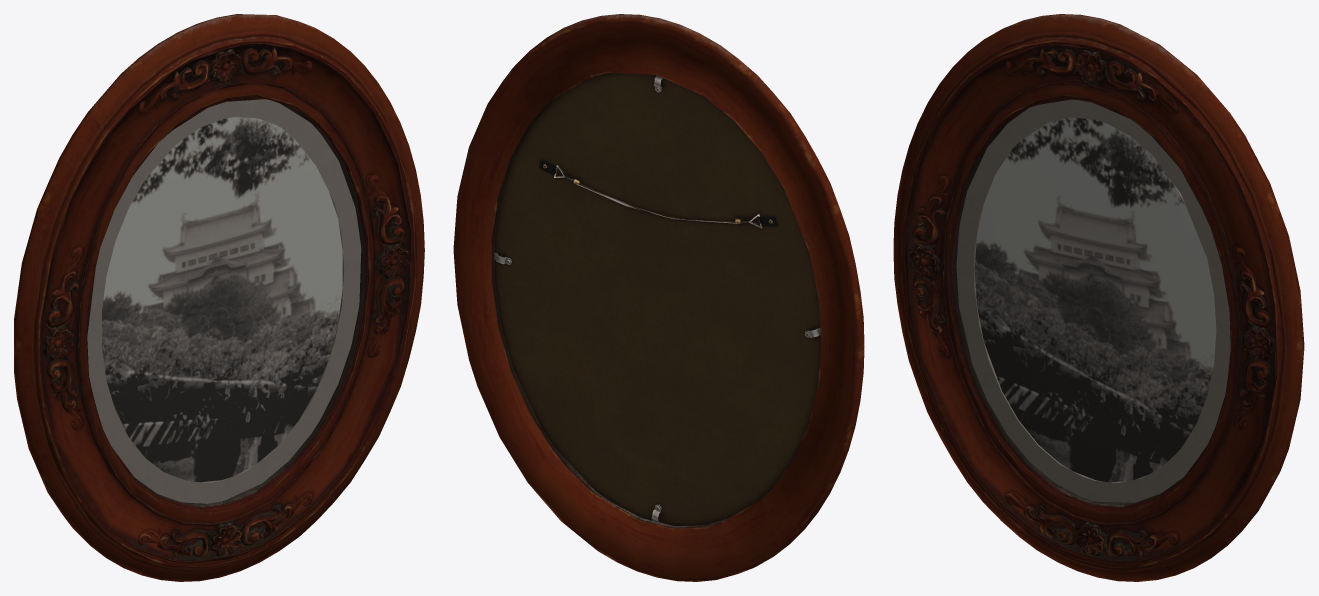
Rendered from hanging_picture_frame_03.glb.
3 renders of one model, left to right at view 1: azimuth 30°, elevation 25°; view 2: azimuth 150°, elevation 25°; view 3: azimuth 330°, elevation 25°, orthographic.
Parts seen in each view (by area): view 1: hanging_picture_frame_03, hanging_picture_frame_03_glass; view 2: hanging_picture_frame_03; view 3: hanging_picture_frame_03, hanging_picture_frame_03_glass.
Boxes of the visible parts, x1,y1,x2,y2 form: hanging_picture_frame_03: (14, 14, 424, 581); hanging_picture_frame_03_glass: (87, 99, 363, 506); hanging_picture_frame_03: (453, 14, 864, 581); hanging_picture_frame_03: (893, 14, 1304, 581); hanging_picture_frame_03_glass: (954, 99, 1230, 505).
Bounding box in the file's own units: 0.3847 × 0.502 × 0.0318.
3 materials, 2 textured.
